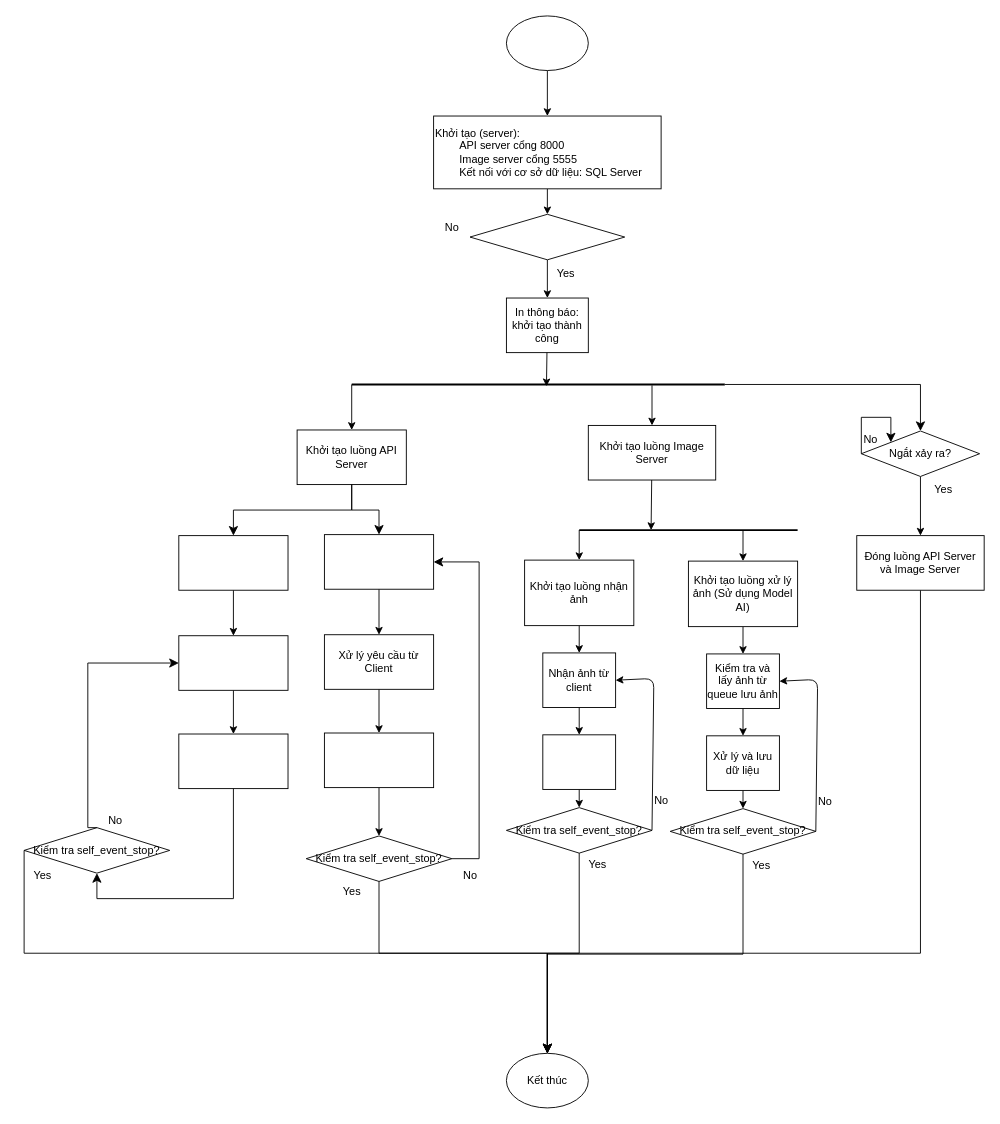
The diagram is 1000 pixels wide and 1124 high, and some of its shapes have lost their labels. Each missing label, with the centre of its shape:
"Bắt đầu" goes at point 547,43.
"Gửi dữ liệu ảnh và data detected liên tục cho client" goes at point 233,761.
"Gửi phản hồi về cho Client" goes at point 379,760.
"Khởi tạo luồng Image Detected Send" goes at point 233,562.
"Khởi tạo thành công?" goes at point 547,236.
"Kiểm tra và lấy dữ liệu đã xử lý từ Model AI" goes at point 233,662.
"Lưu ảnh vào queue nhận ảnh" goes at point 579,761.
"Nhận yêu cầu từ client" goes at point 379,561.
